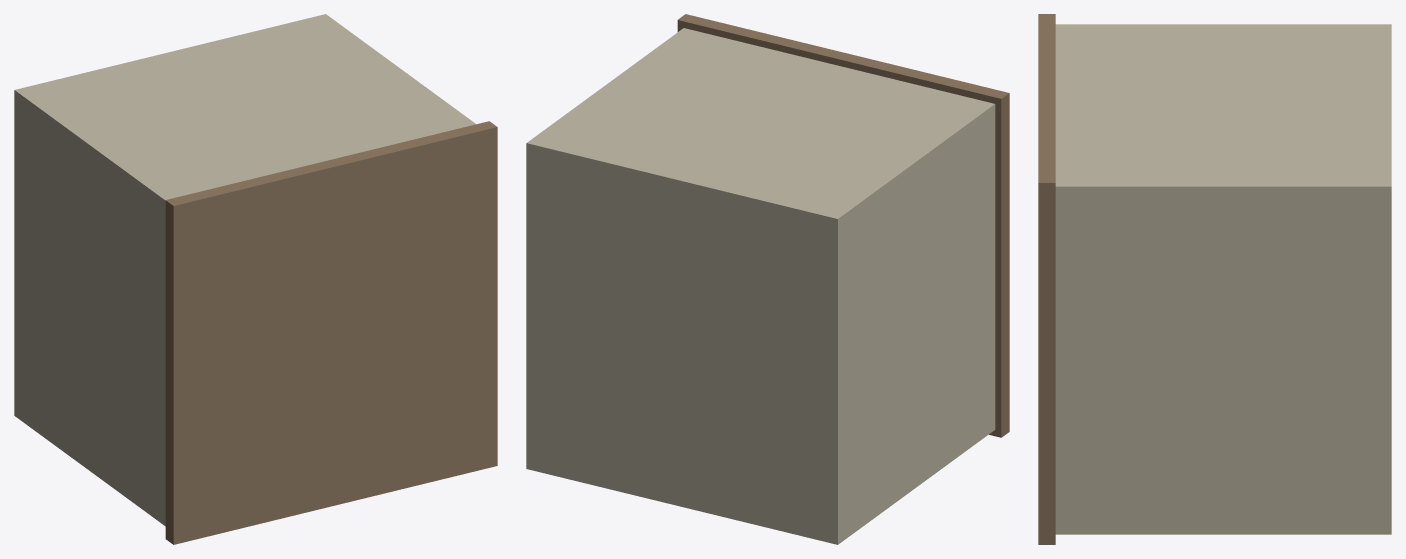
The model's file is village_house_02.glb.
3 renders of one model, left to right at view 1: azimuth 30°, elevation 25°; view 2: azimuth 150°, elevation 25°; view 3: azimuth 270°, elevation 25°, orthographic. The views are drawn at different scales.
Visible parts, largest first — view 1: roof, main; view 2: main, roof; view 3: main, roof.
Boxes of the visible parts, x1=… form: roof: x1=165, y1=121, x2=497, y2=544; main: x1=14, y1=14, x2=475, y2=526; main: x1=526, y1=28, x2=995, y2=544; roof: x1=677, y1=14, x2=1009, y2=437; main: x1=1055, y1=24, x2=1391, y2=534; roof: x1=1038, y1=14, x2=1055, y2=544.
Bounding box in the file's own units: 4.16 × 4.16 × 3.68.
